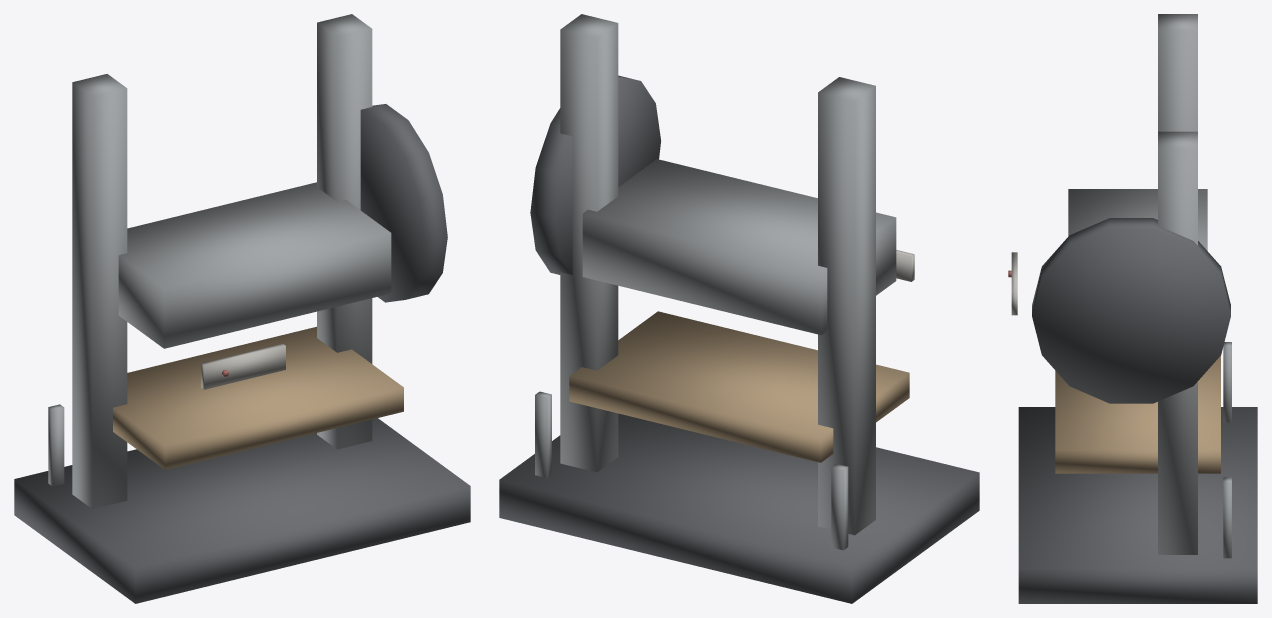
Rendered from letterpress_silhouette__reinforced.glb.
The picture shows the model from 3 angles, left to right: view 1: azimuth 30°, elevation 25°; view 2: azimuth 150°, elevation 25°; view 3: azimuth 270°, elevation 25°; orthographic projection. The views are drawn at different scales.
Parts seen in each view (by area): view 1: world; view 2: world; view 3: world.
Boxes of the visible parts, bbox=[...] form: world: bbox=[14, 14, 470, 603]; world: bbox=[499, 14, 979, 603]; world: bbox=[1008, 14, 1257, 603].
Size of the model in its own units: 1.18 by 1.51 by 0.7735.
